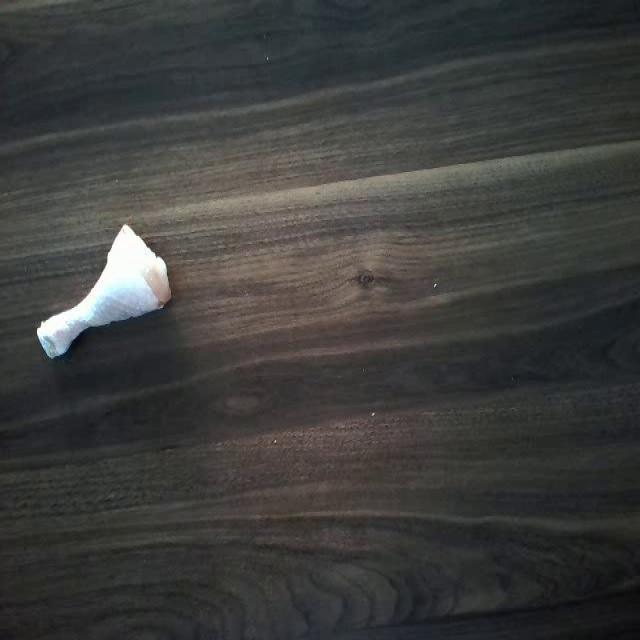leg: (35, 228, 174, 358)
